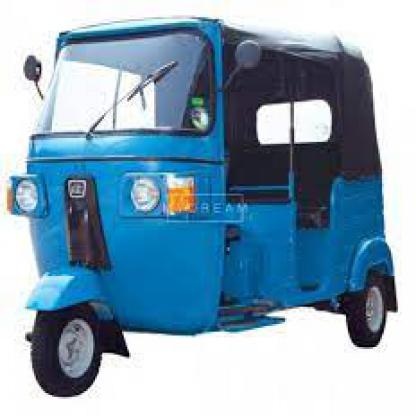tuk: (9, 17, 396, 399)
